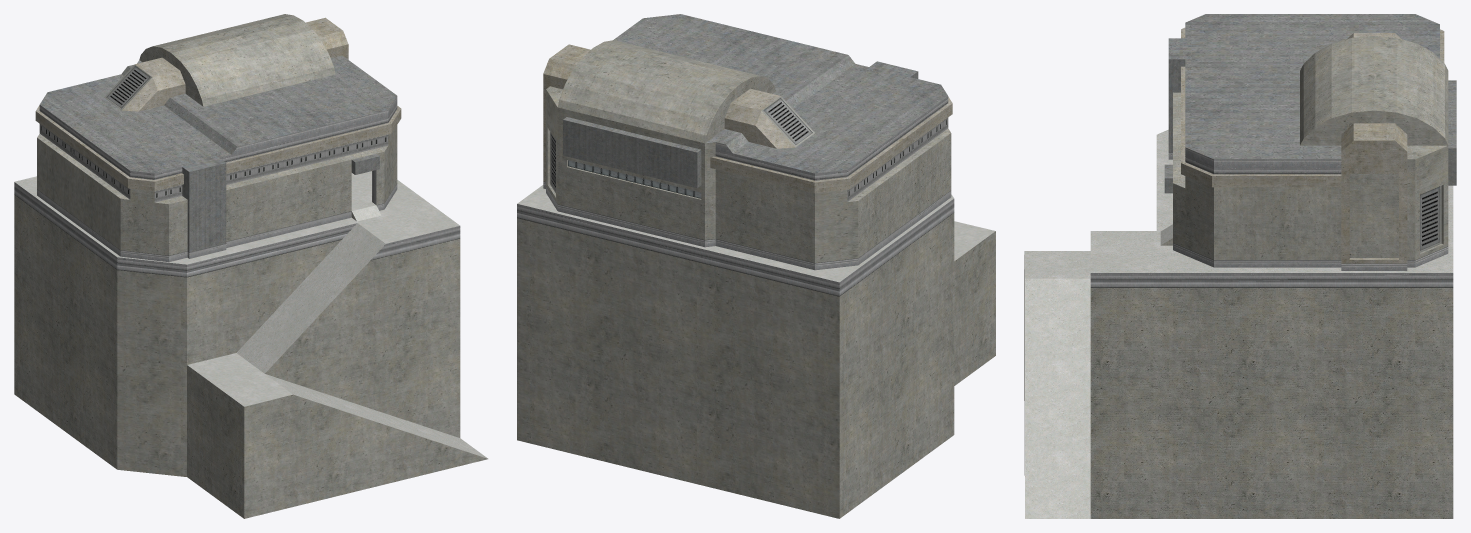
File: ply_all_house_m_s02_fp1_r0_exterior_mesh_l0.fbx
The picture shows the model from 3 angles, left to right: view 1: azimuth 30°, elevation 25°; view 2: azimuth 150°, elevation 25°; view 3: azimuth 270°, elevation 25°; orthographic projection. The views are drawn at different scales.
Parts seen in each view (by area): view 1: mesh_node; view 2: mesh_node; view 3: mesh_node.
Boxes of the visible parts, x1,y1,x2,y2 form: mesh_node: (14, 14, 488, 518); mesh_node: (517, 14, 995, 518); mesh_node: (1024, 14, 1456, 518).
Bounding box in the file's own units: 23.53 × 26.1 × 26.27.
